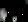person: (1, 9, 10, 22), (13, 11, 21, 22)
